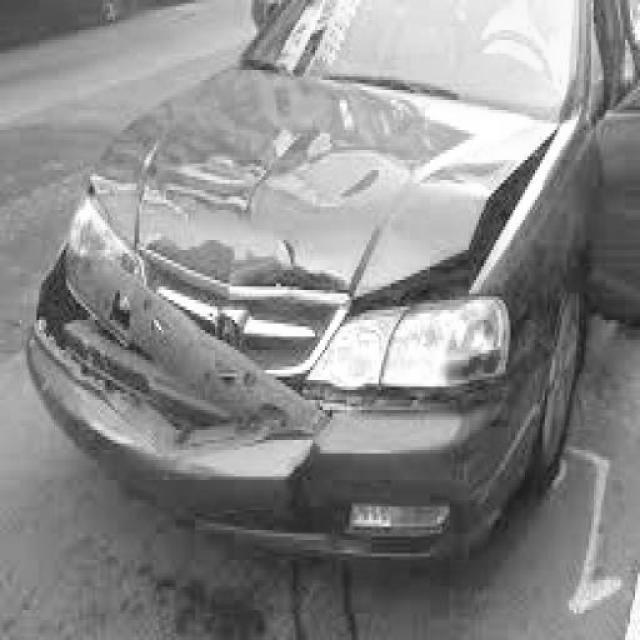car damage: (25, 125, 570, 468)
